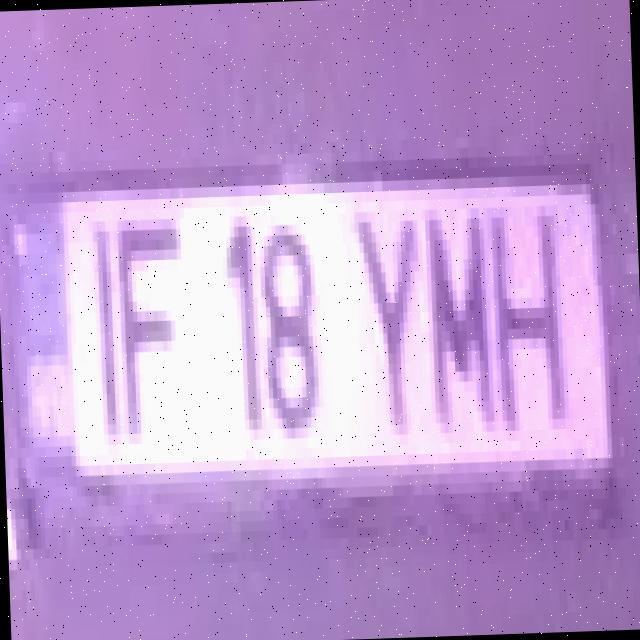Autre: (10, 193, 601, 471)
